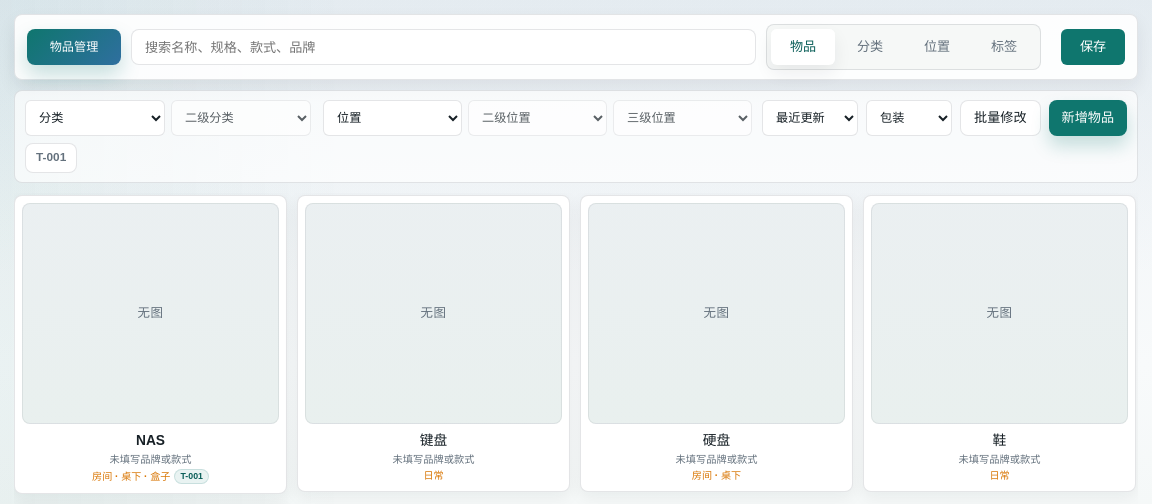
Test case: combined category/location hierarchy filters › uses saved sibling ordering in both category levels and disables an empty child level
Select "数码" in the dropdown named "一级分类筛选" at [95, 118], box [25,100,165,136]
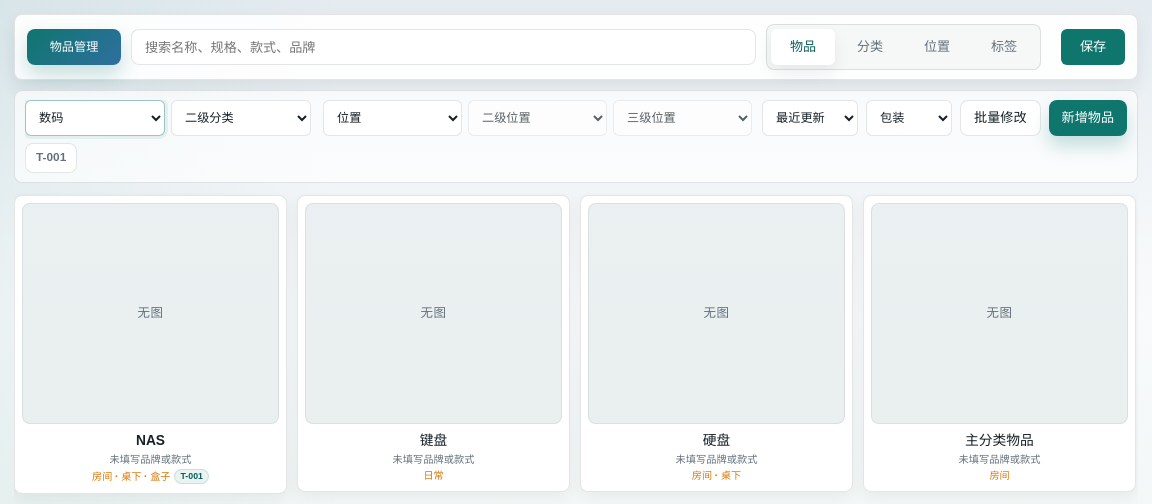
Select "空分类" in the dropdown named "一级分类筛选" at [95, 118], box [25,100,165,136]
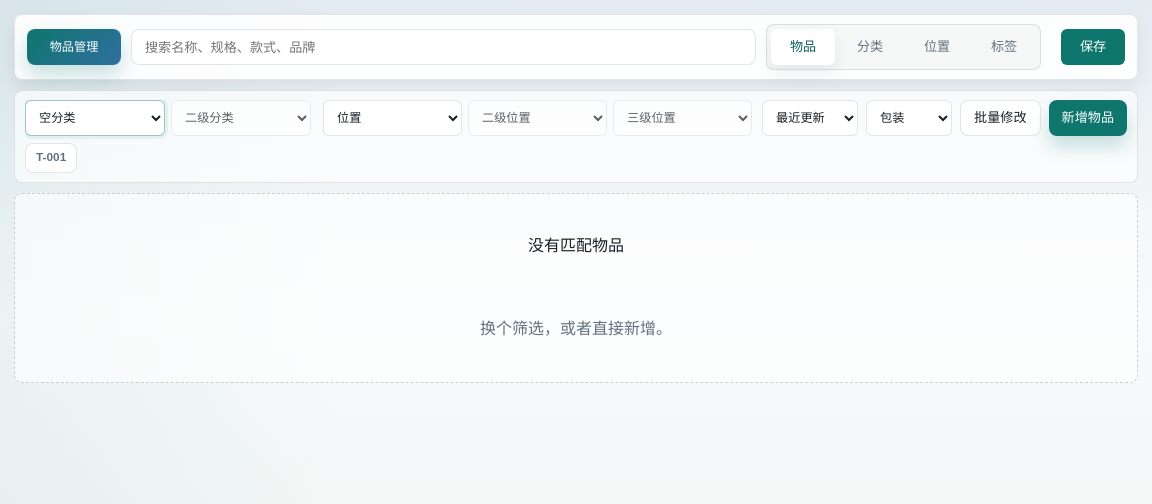
Now the dropdown named "二级分类筛选" is disabled, box [171,100,311,136]
